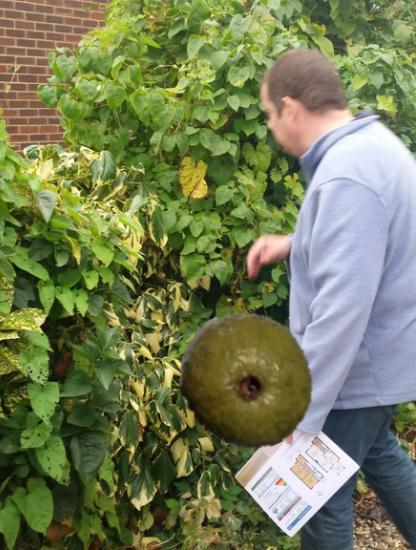Guava: (176, 310, 318, 452)
